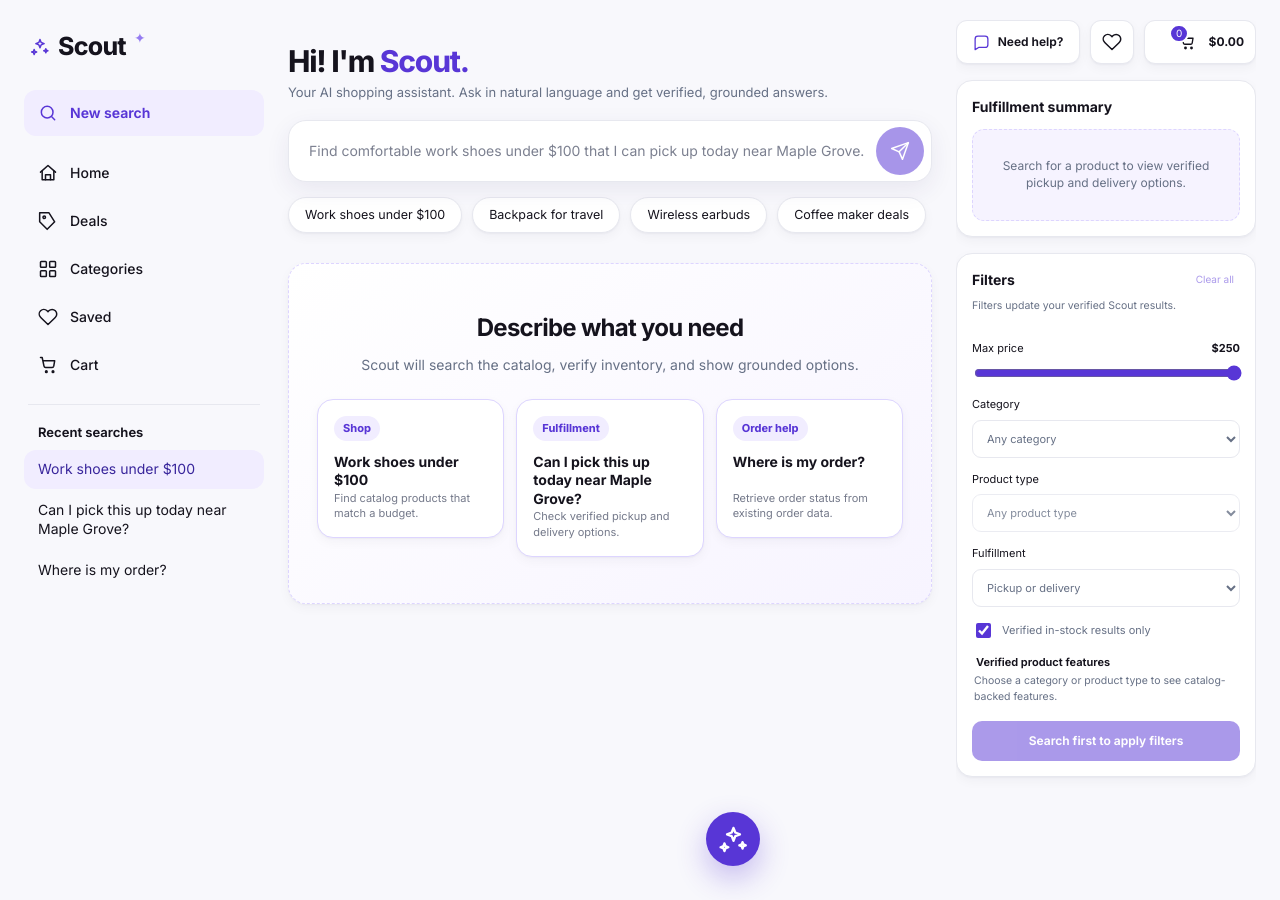
Test: Scout shopping interface › does not duplicate order not-found answer and matching error
This screenshot has width=1280, height=900.
Type "Where is my order?" into the text box named "what are you looking for" at (586, 151), box [309,127,864,175]
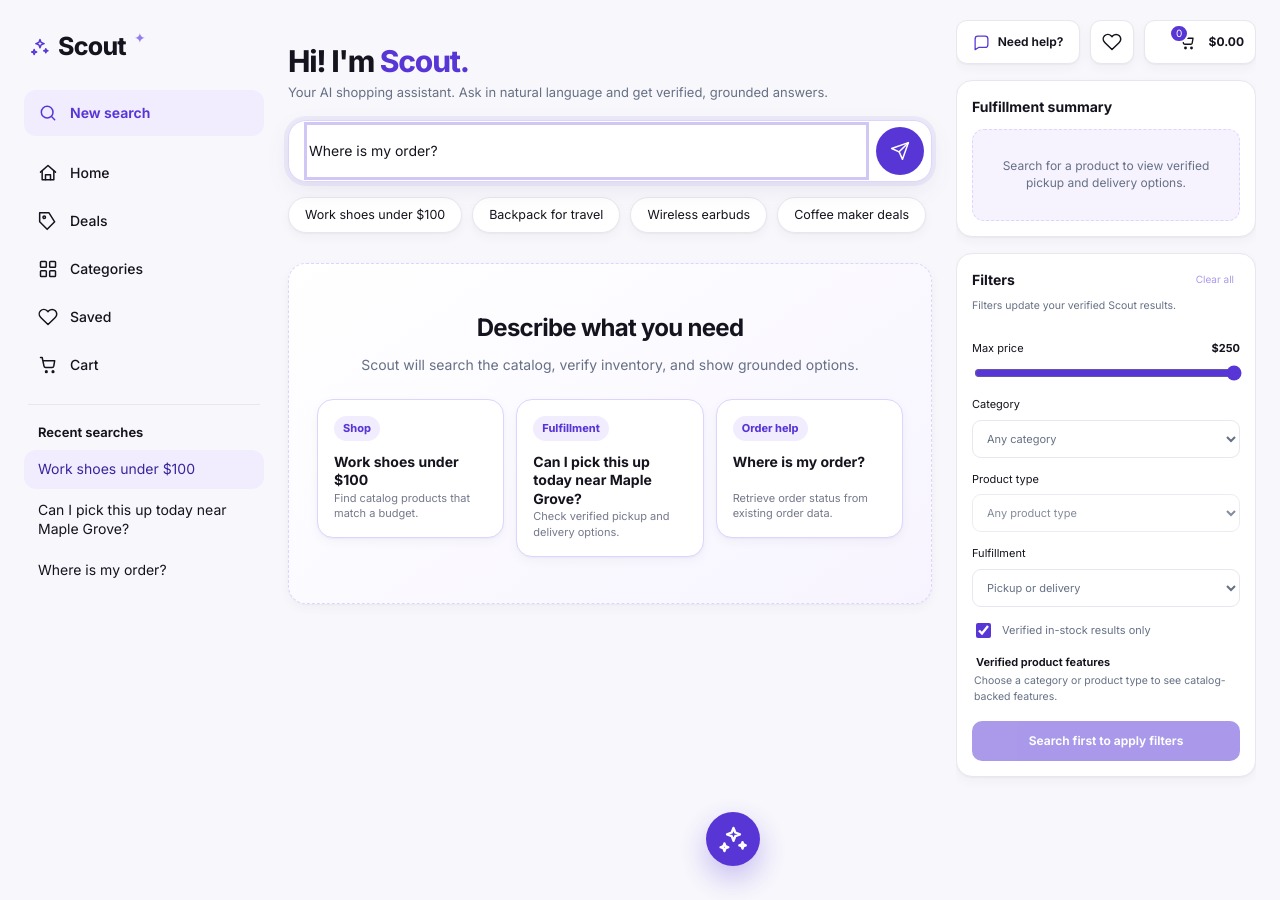
Click the button named "Search" at (900, 151), box [876,127,924,175]
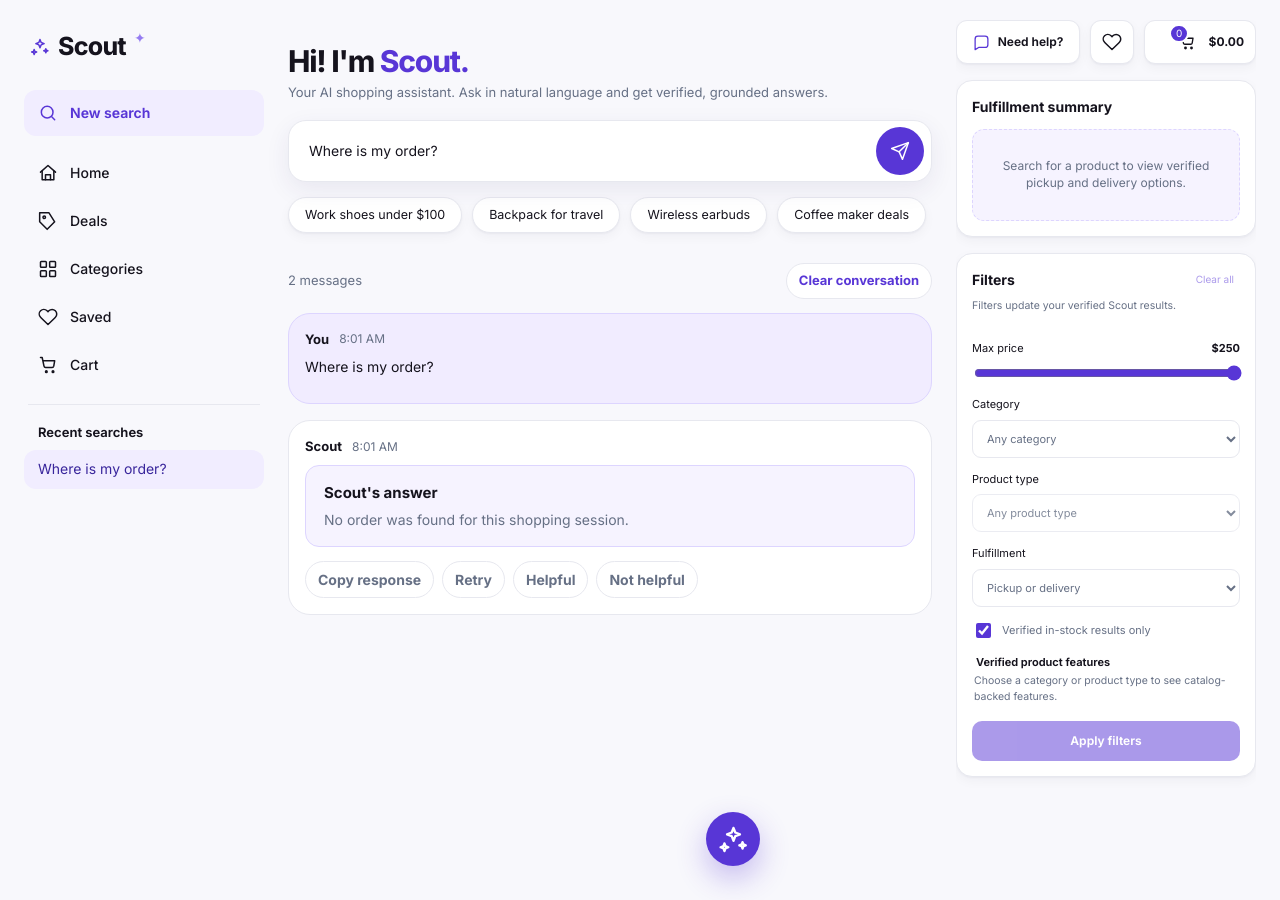
Expected: the heading "Scout's answer" is shown, [324,483,438,502]
Expected: the text "No order was found for this shopping session." is shown once, [324,511,629,528]
